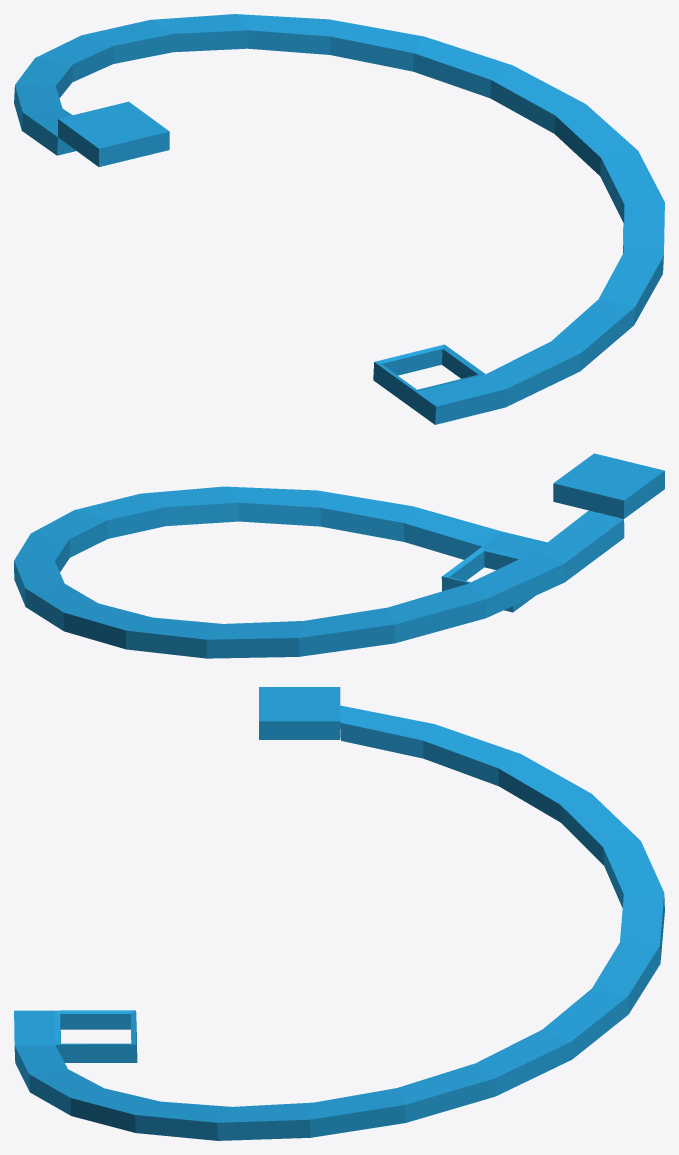
File: model_map_13.fbx
The picture shows the model from 3 angles, top to bottom: view 1: azimuth 30°, elevation 25°; view 2: azimuth 150°, elevation 25°; view 3: azimuth 270°, elevation 25°; orthographic projection.
Visible parts, largest first — view 1: col, lvl; view 2: col, lvl; view 3: col, lvl.
Boxes of the visible parts, box(x1,y1,x2,y2) form: col: box(15, 14, 664, 406); lvl: box(14, 30, 663, 424); col: box(14, 453, 664, 639); lvl: box(14, 471, 664, 658); col: box(14, 687, 664, 1122); lvl: box(14, 721, 664, 1140).
Size of the model in its own units: 1598 by 644 by 1599.
